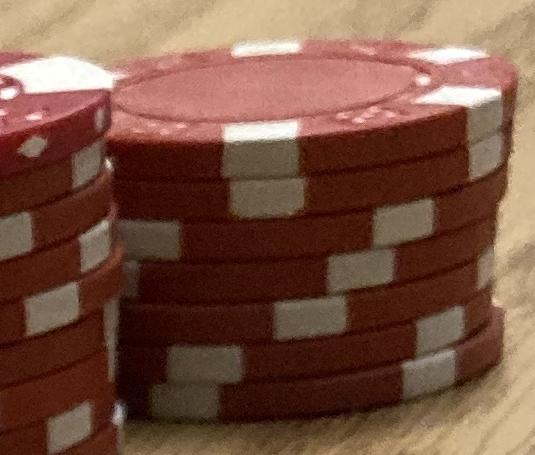Chip: (1, 1, 535, 455)
